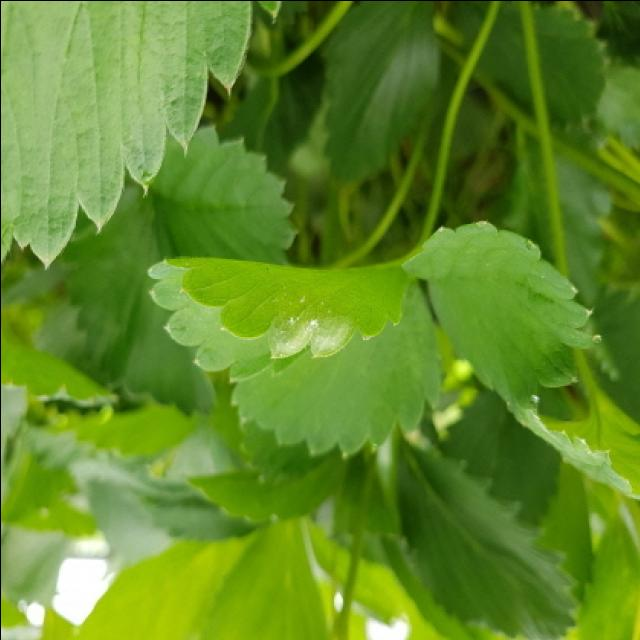Powdery Mildew Leaf: (142, 256, 412, 383)
